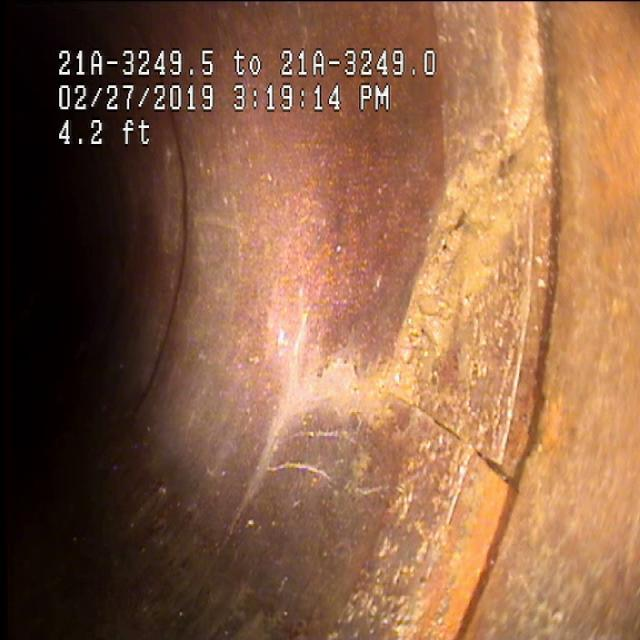Fracture: (340, 174, 532, 480)
